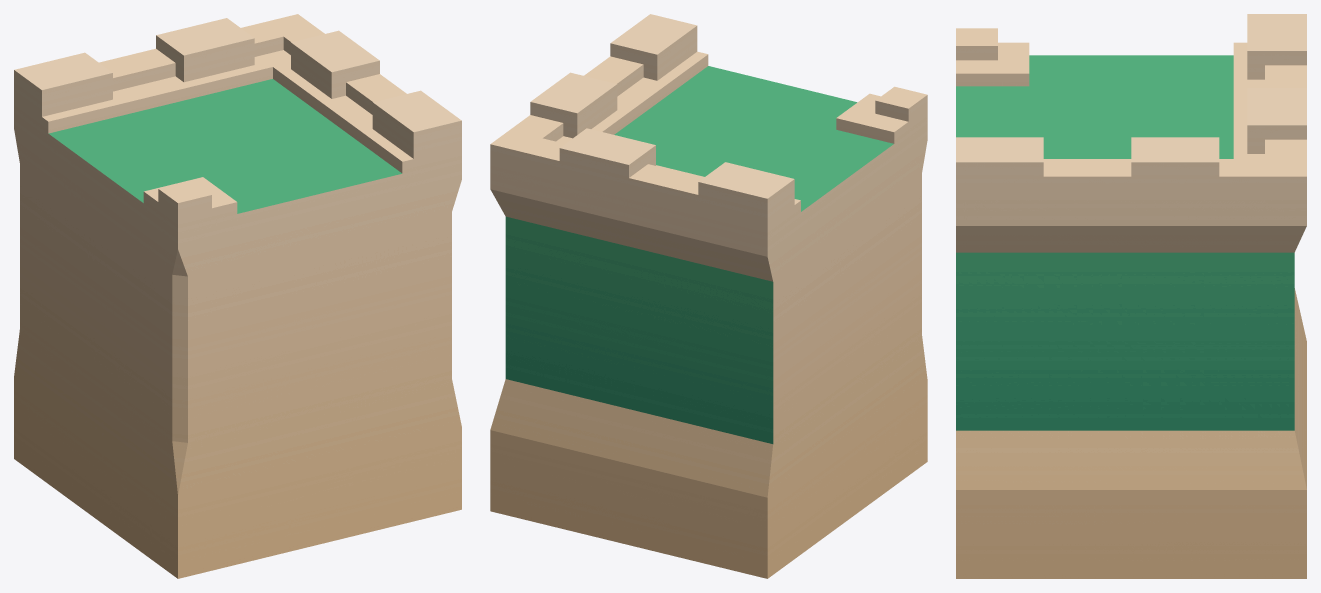
File: wall-corner.glb
3 renders of one model, left to right at view 1: azimuth 30°, elevation 25°; view 2: azimuth 150°, elevation 25°; view 3: azimuth 270°, elevation 25°, orthographic. The views are drawn at different scales.
Visible parts, largest first — view 1: wall-corner; view 2: wall-corner; view 3: wall-corner.
Boxes of the visible parts, left/top/right/bottom form: wall-corner: left=14, top=14, right=461, bottom=578; wall-corner: left=490, top=14, right=927, bottom=578; wall-corner: left=956, top=14, right=1306, bottom=578.
Bounding box in the file's own units: 1 × 1.31 × 1.
